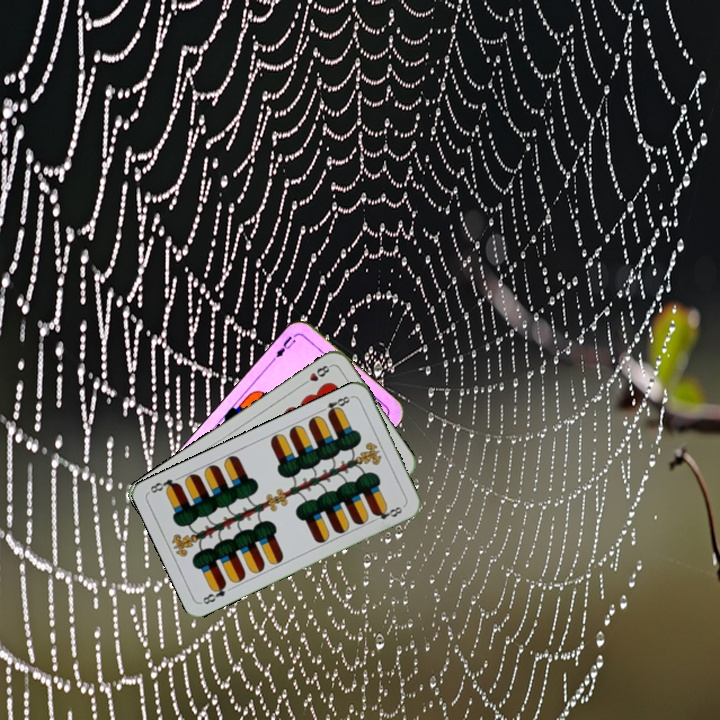E8: (316, 392, 355, 419), (198, 579, 229, 607)
EU: (268, 330, 299, 364)
H8: (298, 361, 334, 388)
